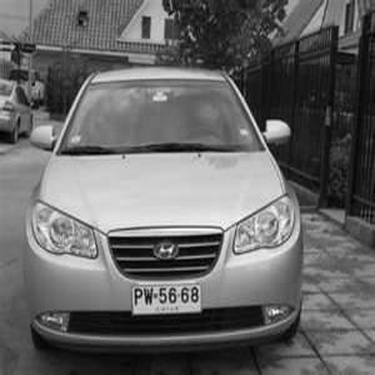car: (19, 62, 308, 356), (1, 83, 35, 144), (4, 67, 48, 104)
